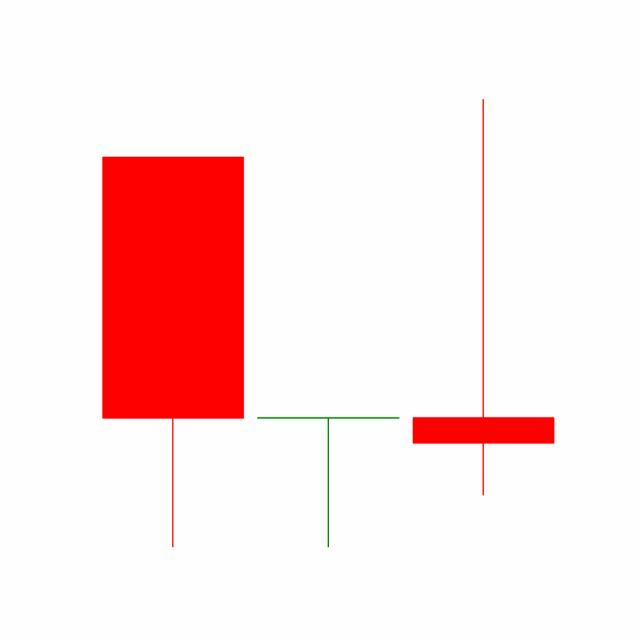Dragonfly Doji: (249, 414, 406, 548)
